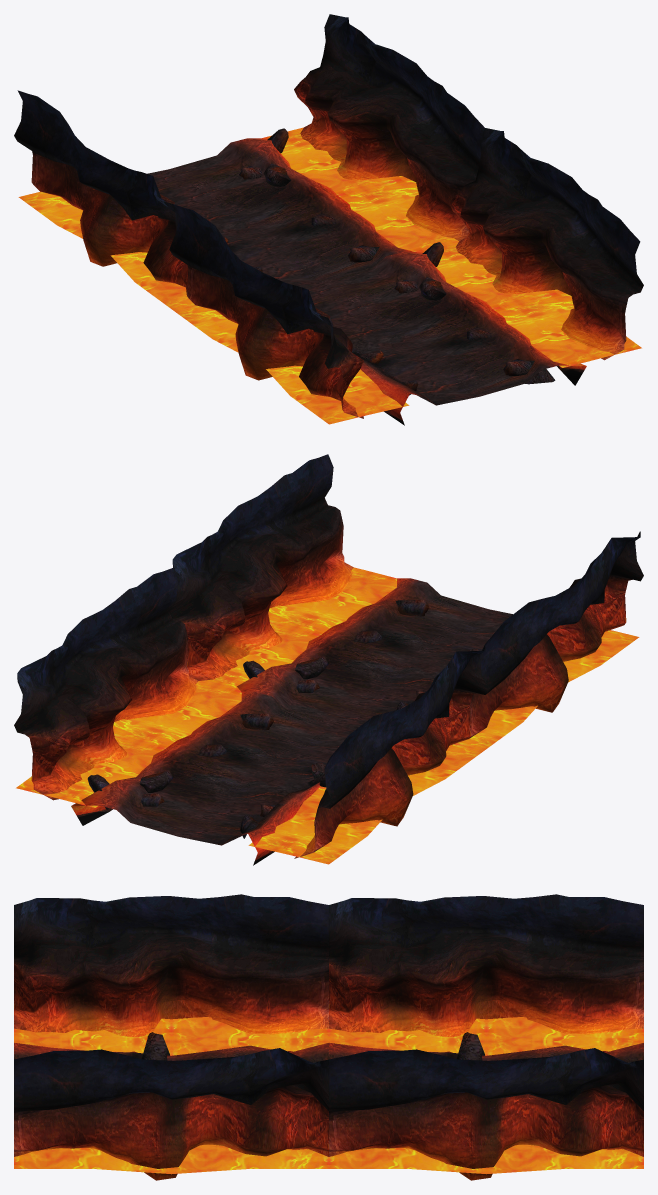
Rendered from map_kazan_01.dae.
The picture shows the model from 3 angles, top to bottom: view 1: azimuth 30°, elevation 25°; view 2: azimuth 150°, elevation 25°; view 3: azimuth 270°, elevation 25°; orthographic projection.
Parts seen in each view (by area): view 1: map_kazan_01, map_kazan_01.001, map_kazan_01.003, map_kazan_01.002; view 2: map_kazan_01, map_kazan_01.001, map_kazan_01.003, map_kazan_01.002; view 3: map_kazan_01, map_kazan_01.003, map_kazan_01.001, map_kazan_01.002.
Boxes of the visible parts, x1,y1,x2,y2 form: map_kazan_01: (14,14,643,418); map_kazan_01.001: (147,138,586,425); map_kazan_01.003: (18,127,641,424); map_kazan_01.002: (174,128,555,395); map_kazan_01: (14,454,643,858); map_kazan_01.001: (71,578,512,865); map_kazan_01.003: (16,567,639,864); map_kazan_01.002: (87,600,479,838); map_kazan_01: (14,894,643,1180); map_kazan_01.003: (14,1017,643,1174); map_kazan_01.001: (14,1042,643,1062); map_kazan_01.002: (141,1032,484,1060).
Bounding box in the file's own units: 63.89 × 100 × 25.09.
Materials: 4 (4 with a texture image).
